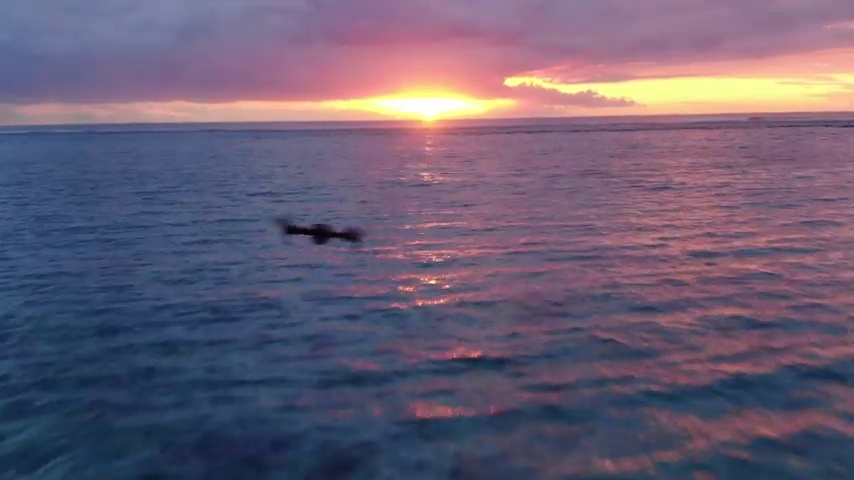drone: (281, 220, 362, 249)
